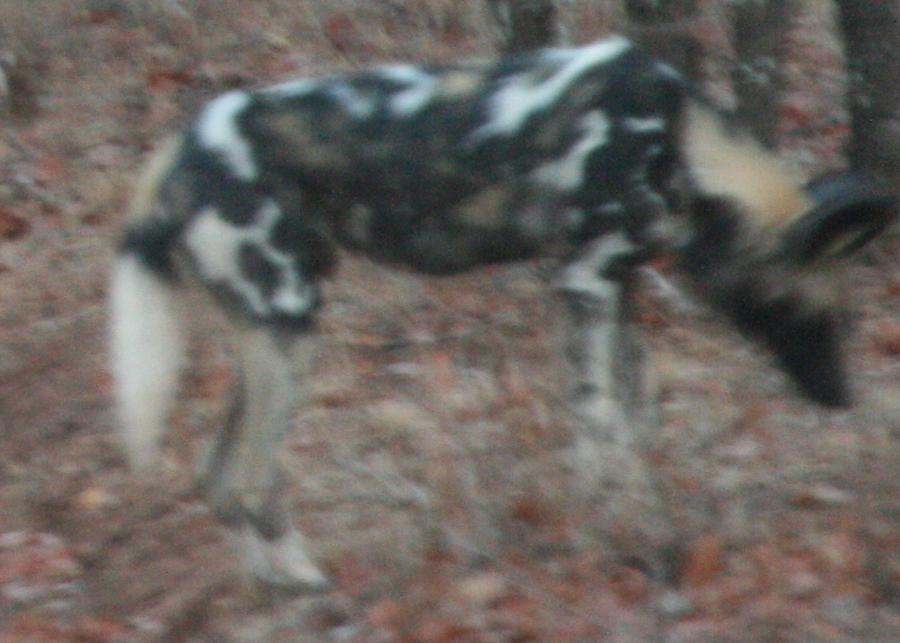wilddog: (1, 1, 900, 643)
